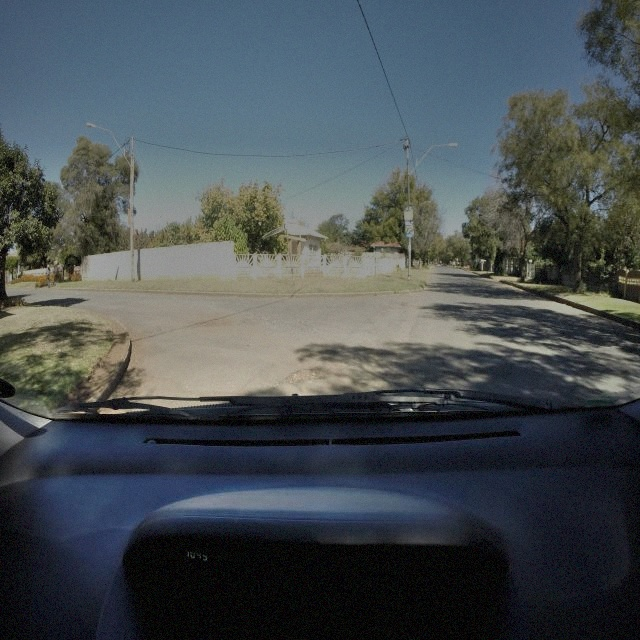pothole: (286, 363, 330, 385), (200, 312, 236, 329)
